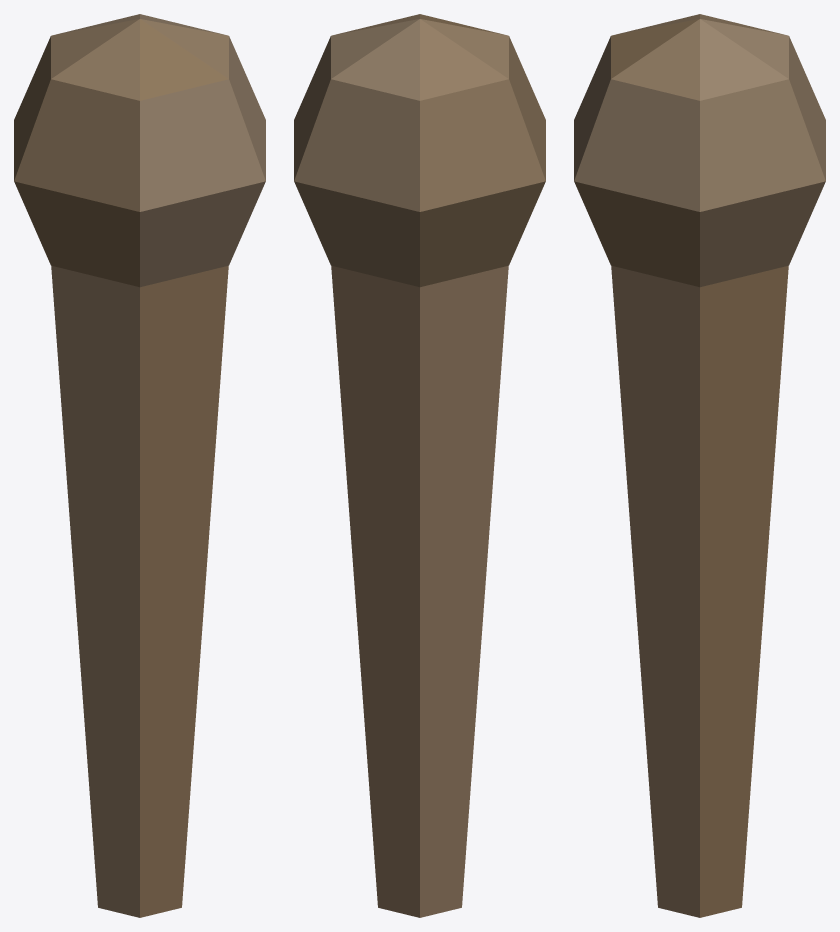
File: club.glb
3 views of the same model, side by side, from view 1: azimuth 30°, elevation 25°; view 2: azimuth 150°, elevation 25°; view 3: azimuth 270°, elevation 25° (orthographic).
Parts seen in each view (by area): view 1: club2; view 2: club2; view 3: club2.
Part boxes in pixels (x1,y1,x2,y2): club2: [14, 14, 265, 917]; club2: [294, 14, 545, 917]; club2: [574, 14, 825, 917].
Bounding box in the file's own units: 0.3 × 1 × 0.2598.
